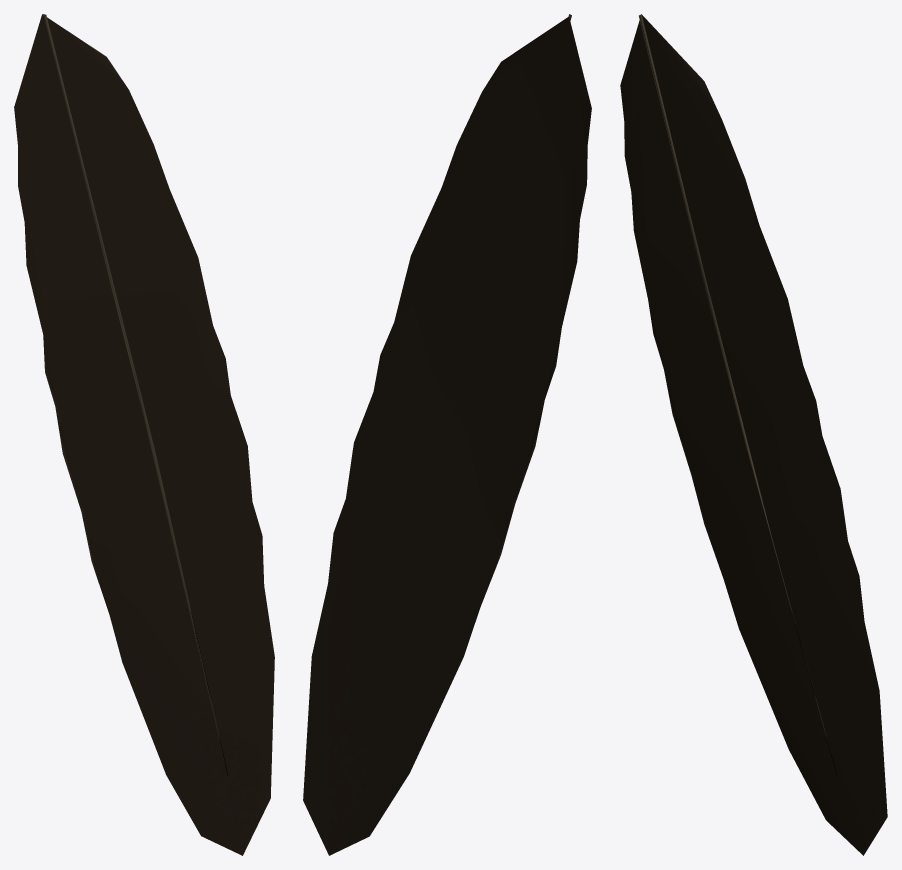
File: bird_rectrix_09.obj
3 renders of one model, left to right at view 1: azimuth 30°, elevation 25°; view 2: azimuth 150°, elevation 25°; view 3: azimuth 330°, elevation 25°, orthographic. The views are drawn at different scales.
Visible parts, largest first — view 1: PIECE_BIRD_RECTRIX_RIG_09; view 2: PIECE_BIRD_RECTRIX_RIG_09; view 3: PIECE_BIRD_RECTRIX_RIG_09.
Boxes of the visible parts, x1=… form: PIECE_BIRD_RECTRIX_RIG_09: x1=14, y1=14, x2=274, y2=855; PIECE_BIRD_RECTRIX_RIG_09: x1=303, y1=14, x2=591, y2=855; PIECE_BIRD_RECTRIX_RIG_09: x1=620, y1=14, x2=887, y2=855.
Size of the model in its own units: 0.0556 by 0.1742 by 0.0095.
Materials: 1 (1 with a texture image).
